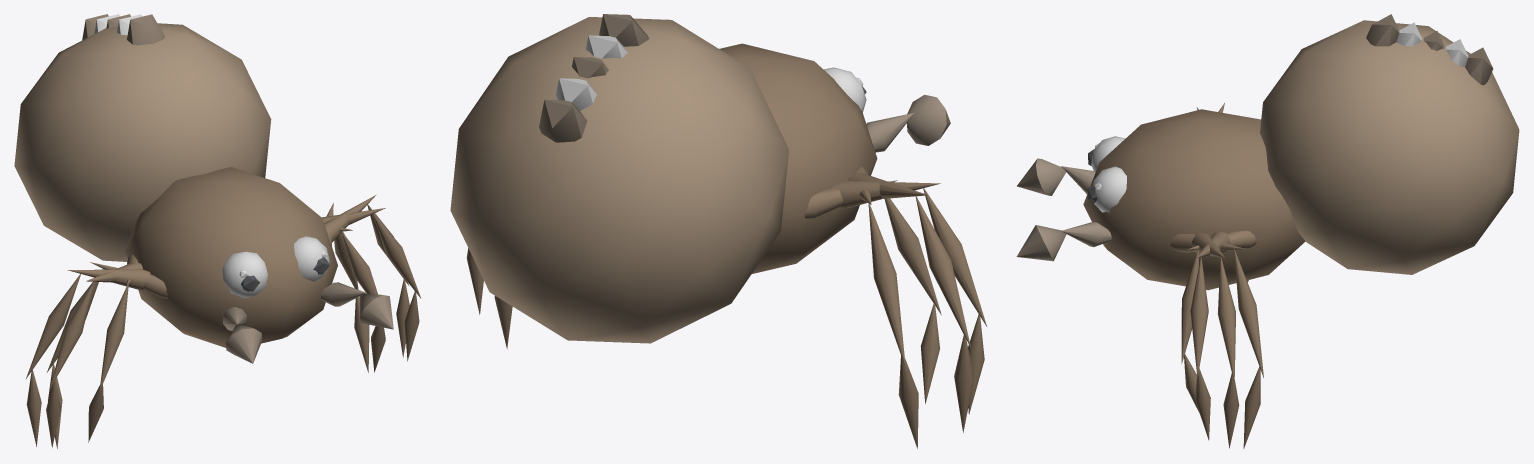
Rendered from neoscona-punctigera.glb.
3 renders of one model, left to right at view 1: azimuth 30°, elevation 25°; view 2: azimuth 150°, elevation 25°; view 3: azimuth 270°, elevation 25°, orthographic. The views are drawn at different scales.
Visible parts, largest first — view 1: abdomen, cephalothorax, leg1-r0, leg2-r0, leg2-l0, leg3-r0, eye0-r, leg1-l0, leg3-l0, leg0-r0, eye0-l, leg0-l0 (+4 smaller); view 2: abdomen, cephalothorax, leg1-r0, leg2-r0, leg3-r0, leg0-r0, palp-r1, palp-r0, eye0-r; view 3: abdomen, cephalothorax, leg0-l0, leg1-l0, leg2-l0, leg3-l0, eye0-l, palp-l1, palp-r1, palp-l0, eye0-r.
Part boxes in pixels (<box>): abdomen: <box>14,14,271,261</box>; cephalothorax: <box>125,167,337,347</box>; leg1-r0: <box>25,269,150,446</box>; leg2-r0: <box>46,262,142,447</box>; leg2-l0: <box>322,208,421,361</box>; leg3-r0: <box>88,254,138,442</box>; eye0-r: <box>222,251,267,298</box>; leg1-l0: <box>324,194,409,357</box>; leg3-l0: <box>339,227,385,372</box>; leg0-r0: <box>47,262,168,448</box>; eye0-l: <box>294,236,329,281</box>; leg0-l0: <box>326,203,369,372</box>; abdomen: <box>450,14,789,343</box>; cephalothorax: <box>719,43,877,273</box>; leg1-r0: <box>848,173,973,432</box>; leg2-r0: <box>831,181,986,414</box>; leg3-r0: <box>804,180,941,404</box>; leg0-r0: <box>855,167,918,448</box>; palp-r1: <box>906,94,950,145</box>; palp-r0: <box>866,112,914,152</box>; eye0-r: <box>823,67,866,112</box>; abdomen: <box>1260,14,1519,274</box>; cephalothorax: <box>1083,109,1305,290</box>; leg0-l0: <box>1170,234,1263,448</box>; leg1-l0: <box>1192,233,1239,448</box>; leg2-l0: <box>1190,231,1230,440</box>; leg3-l0: <box>1181,230,1257,412</box>; eye0-l: <box>1088,166,1126,212</box>; palp-l1: <box>1016,225,1066,261</box>; palp-r1: <box>1017,158,1066,195</box>; palp-l0: <box>1061,222,1111,246</box>; eye0-r: <box>1088,136,1125,173</box>.
Bounding box in the file's own units: 0.3738 × 0.3185 × 0.412.
